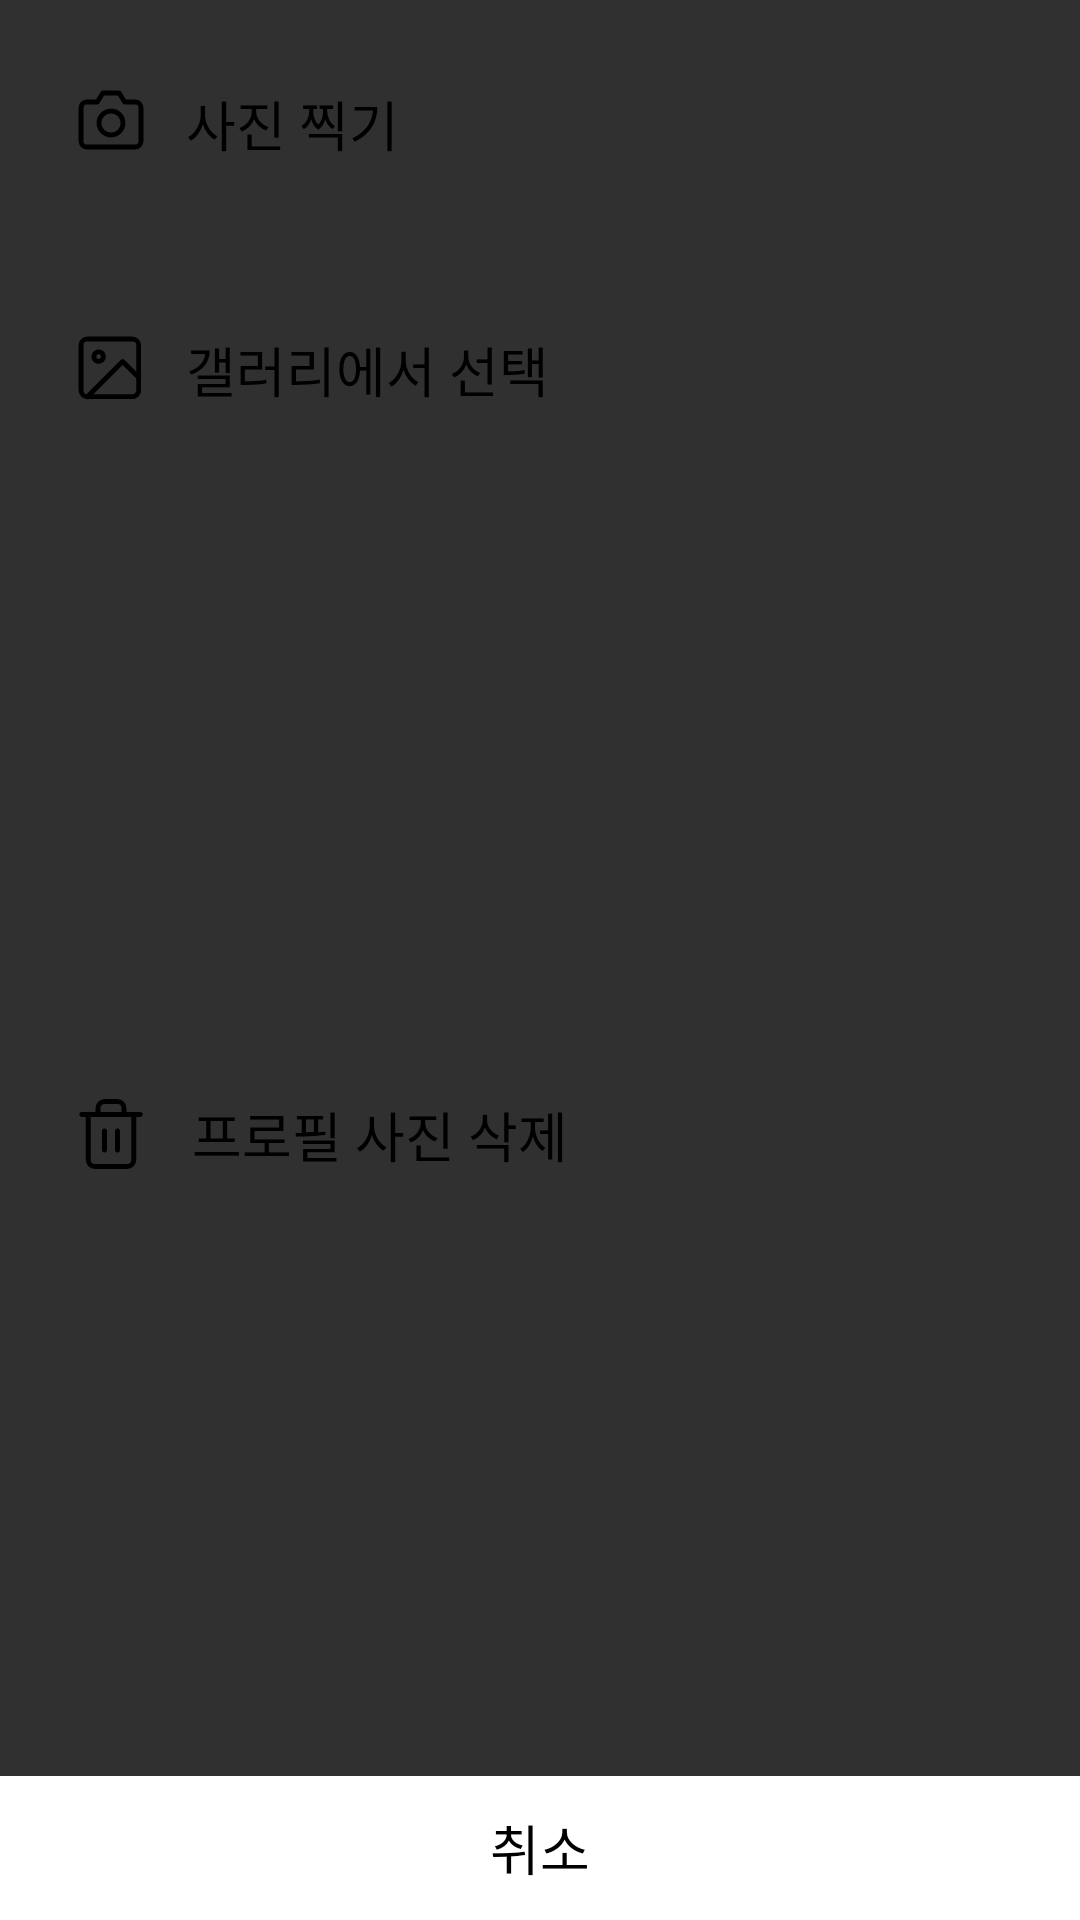

Icon click points for this 1080*1920 phone screenshot, format [x,y]:
gallery: [110,368]
mypage camera: [111,120]
trash: [111,1134]
